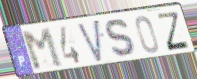0: (135, 15, 160, 55)
4: (60, 25, 83, 66)
M: (20, 26, 66, 73)
S: (104, 18, 139, 60)
V: (76, 17, 103, 65)
Z: (156, 11, 191, 53)
